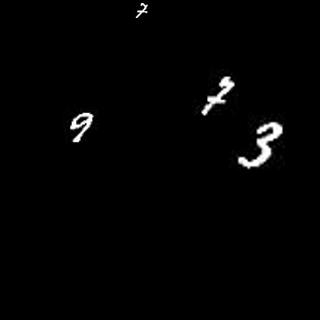nine: (64, 113, 95, 141)
seven: (200, 71, 235, 118), (136, 2, 150, 20)
three: (238, 121, 283, 169)
